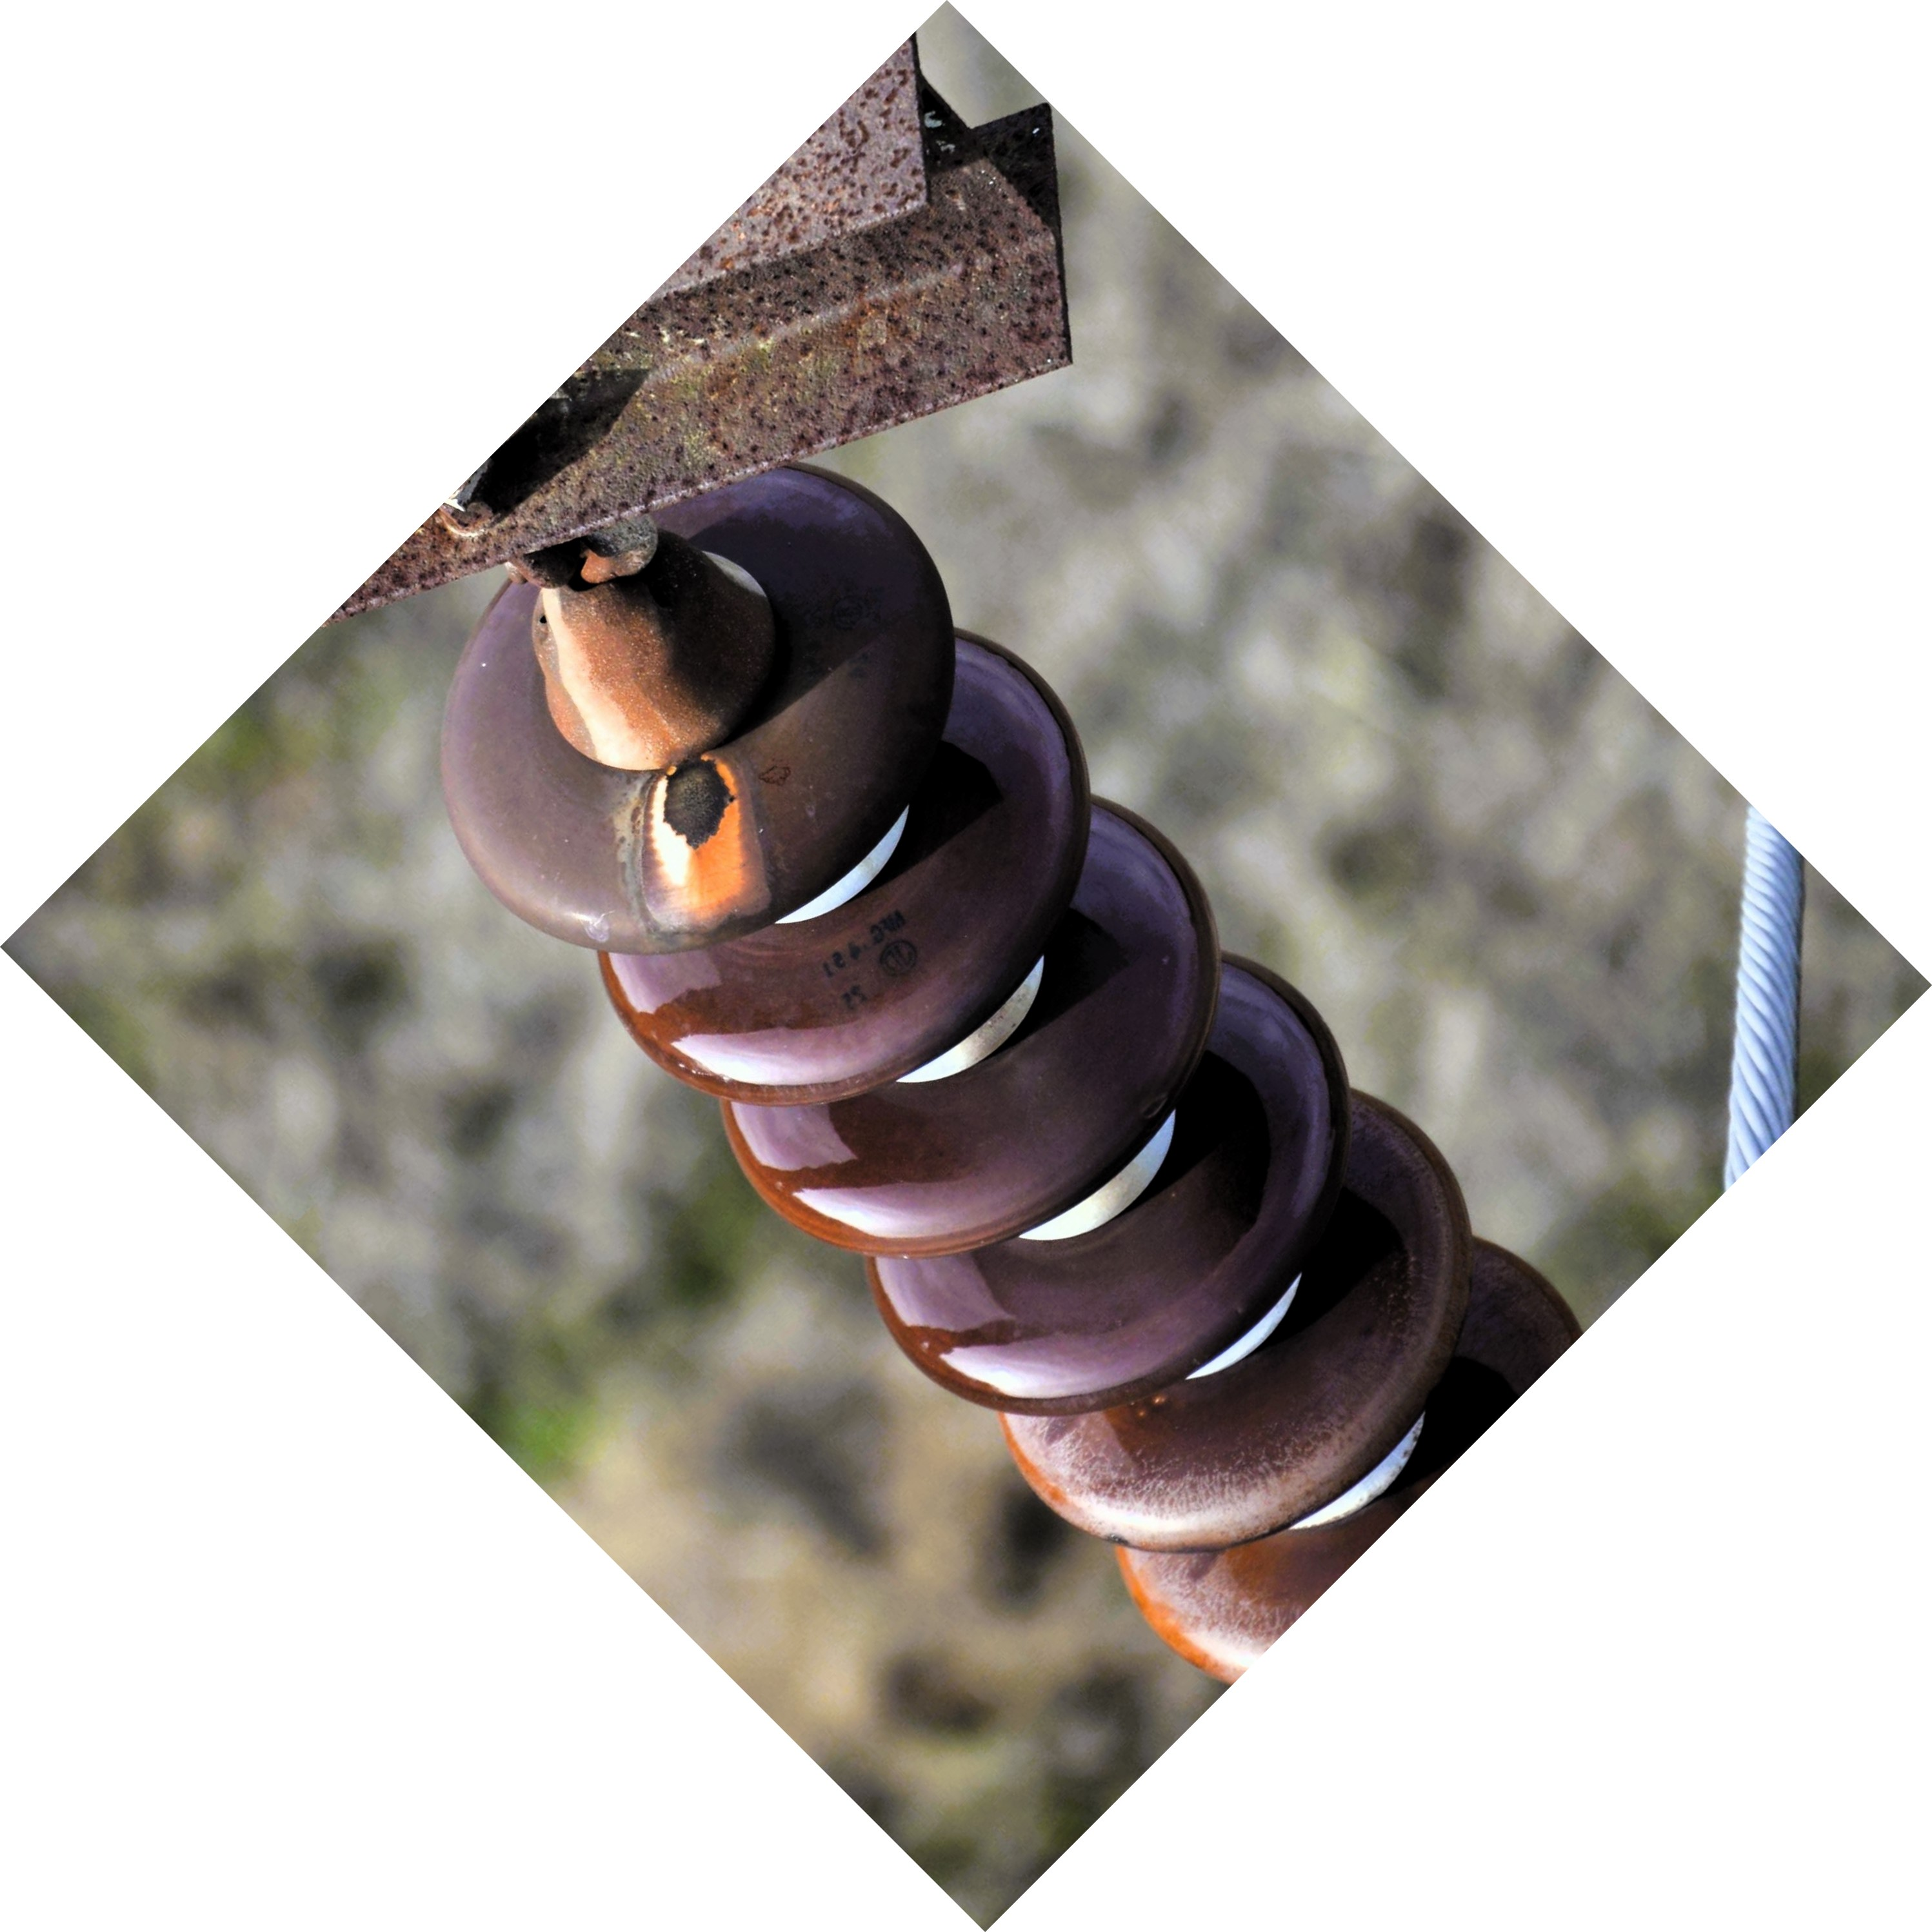Insulator flashover: (425, 446, 964, 964)
